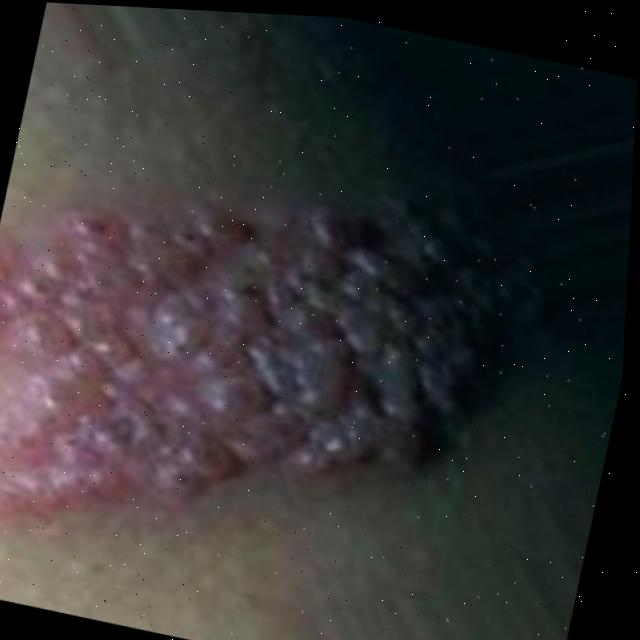Shingles: (0, 121, 533, 612)
